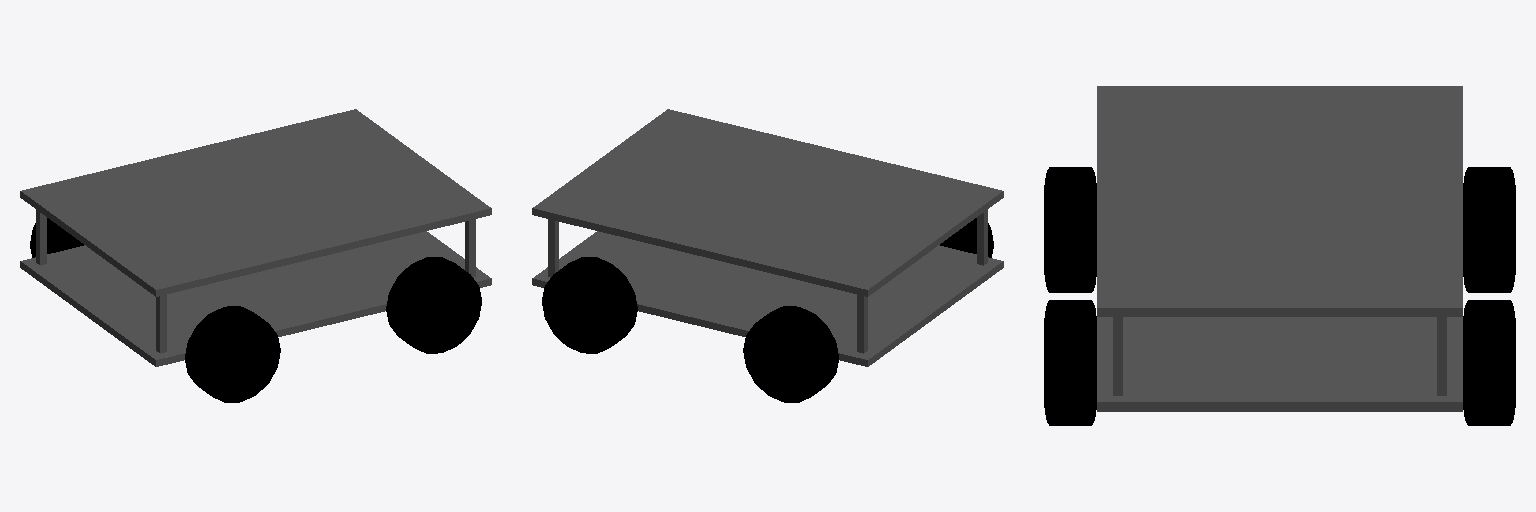
The robot description file, URDF, robot "raido-bot":
<?xml version="1.0" ?>
<!-- =================================================================================== -->
<!-- |    This document was autogenerated by xacro from src/raido-bot_description/urdf/raido-bot.urdf.xacro | -->
<!-- |    EDITING THIS FILE BY HAND IS NOT RECOMMENDED                                 | -->
<!-- =================================================================================== -->
<robot name="raido-bot">
  <material name="grey">
    <color rgba="0.38 0.38 0.38 1.0"/>
  </material>
  <material name="black">
    <color rgba="0 0 0 1.0"/>
  </material>
  <link name="base_link">
    <inertial>
      <origin rpy="0.0 0.0 0.0" xyz="0.0 0.0 0.0"/>
      <mass value="5.0"/>
      <inertia ixx="0.043125" ixy="0.0" ixz="0.0" iyy="0.0890625" iyz="0.0" izz="0.1040625"/>
    </inertial>
    <collision name="base_link_col">
      <origin rpy="0.0 0.0 0.0" xyz="0.0 0.0 0.0"/>
      <geometry>
        <box size="0.5 0.35 0.11"/>
      </geometry>
    </collision>
    <visual name="base_link_vis">
      <origin rpy="0.0 0.0 0.0" xyz="0.0 0.0 0.0"/>
      <geometry>
        <mesh filename="package://raido-bot_description/meshes/base_link.stl" scale="1 1 1"/>
      </geometry>
      <material name="grey"/>
    </visual>
  </link>
  <link name="wheel_link_fr">
    <inertial>
      <origin rpy="0.0 0.0 0.0" xyz="0.0 0.0 0.0"/>
      <mass value="1.0"/>
      <inertia ixx="0.0025" ixy="0.0" ixz="0.0" iyy="0.0025" iyz="0.0" izz="0.001"/>
    </inertial>
    <collision name="wheel_link_fr_col">
      <origin rpy="0.0 0.0 0.0" xyz="0.0 0.0 0.0"/>
      <geometry>
        <cylinder length="0.05" radius="0.06"/>
      </geometry>
    </collision>
    <visual name="wheel_link_fr_vis">
      <origin rpy="0.0 0.0 0.0" xyz="0.0 0.0 0.0"/>
      <geometry>
        <mesh filename="package://raido-bot_description/meshes/wheel_link.stl" scale="1 1 1"/>
      </geometry>
      <material name="black"/>
    </visual>
  </link>
  <joint name="wheel_link_fr_joint" type="continuous">
    <origin rpy="0.0 0.0 0.0" xyz="0.15 0.19999999999999998 0.0"/>
    <parent link="base_link"/>
    <child link="wheel_link_fr"/>
    <axis xyz="0 1 0"/>
    <limit effort="1.0" lower="0.0" upper="0.0" velocity="1.0"/>
  </joint>
  <link name="wheel_link_br">
    <inertial>
      <origin rpy="0.0 0.0 0.0" xyz="0.0 0.0 0.0"/>
      <mass value="1.0"/>
      <inertia ixx="0.0025" ixy="0.0" ixz="0.0" iyy="0.0025" iyz="0.0" izz="0.001"/>
    </inertial>
    <collision name="wheel_link_br_col">
      <origin rpy="0.0 0.0 0.0" xyz="0.0 0.0 0.0"/>
      <geometry>
        <cylinder length="0.05" radius="0.06"/>
      </geometry>
    </collision>
    <visual name="wheel_link_br_vis">
      <origin rpy="0.0 0.0 0.0" xyz="0.0 0.0 0.0"/>
      <geometry>
        <mesh filename="package://raido-bot_description/meshes/wheel_link.stl" scale="1 1 1"/>
      </geometry>
      <material name="black"/>
    </visual>
  </link>
  <joint name="wheel_link_br_joint" type="continuous">
    <origin rpy="0.0 0.0 0.0" xyz="-0.15 0.19999999999999998 0.0"/>
    <parent link="base_link"/>
    <child link="wheel_link_br"/>
    <axis xyz="0 1 0"/>
    <limit effort="1.0" lower="0.0" upper="0.0" velocity="1.0"/>
  </joint>
  <link name="wheel_link_fl">
    <inertial>
      <origin rpy="0.0 0.0 0.0" xyz="0.0 0.0 0.0"/>
      <mass value="1.0"/>
      <inertia ixx="0.0025" ixy="0.0" ixz="0.0" iyy="0.0025" iyz="0.0" izz="0.001"/>
    </inertial>
    <collision name="wheel_link_fl_col">
      <origin rpy="0.0 0.0 0.0" xyz="0.0 0.0 0.0"/>
      <geometry>
        <cylinder length="0.05" radius="0.06"/>
      </geometry>
    </collision>
    <visual name="wheel_link_fl_vis">
      <origin rpy="0.0 0.0 0.0" xyz="0.0 0.0 0.0"/>
      <geometry>
        <mesh filename="package://raido-bot_description/meshes/wheel_link.stl" scale="1 1 1"/>
      </geometry>
      <material name="black"/>
    </visual>
  </link>
  <joint name="wheel_link_fl_joint" type="continuous">
    <origin rpy="0.0 0.0 0.0" xyz="0.15 -0.19999999999999998 0.0"/>
    <parent link="base_link"/>
    <child link="wheel_link_fl"/>
    <axis xyz="0 1 0"/>
    <limit effort="1.0" lower="0.0" upper="0.0" velocity="1.0"/>
  </joint>
  <link name="wheel_link_bl">
    <inertial>
      <origin rpy="0.0 0.0 0.0" xyz="0.0 0.0 0.0"/>
      <mass value="1.0"/>
      <inertia ixx="0.0025" ixy="0.0" ixz="0.0" iyy="0.0025" iyz="0.0" izz="0.001"/>
    </inertial>
    <collision name="wheel_link_bl_col">
      <origin rpy="0.0 0.0 0.0" xyz="0.0 0.0 0.0"/>
      <geometry>
        <cylinder length="0.05" radius="0.06"/>
      </geometry>
    </collision>
    <visual name="wheel_link_bl_vis">
      <origin rpy="0.0 0.0 0.0" xyz="0.0 0.0 0.0"/>
      <geometry>
        <mesh filename="package://raido-bot_description/meshes/wheel_link.stl" scale="1 1 1"/>
      </geometry>
      <material name="black"/>
    </visual>
  </link>
  <joint name="wheel_link_bl_joint" type="continuous">
    <origin rpy="0.0 0.0 0.0" xyz="-0.15 -0.19999999999999998 0.0"/>
    <parent link="base_link"/>
    <child link="wheel_link_bl"/>
    <axis xyz="0 1 0"/>
    <limit effort="1.0" lower="0.0" upper="0.0" velocity="1.0"/>
  </joint>
  <gazebo>
    <plugin filename="ignition-gazebo-diff-drive-system" name="gz::sim::systems::DiffDrive">
      <left_joint>wheel_link_fl_joint</left_joint>
      <right_joint>wheel_link_fr_joint</right_joint>
      <wheel_separation>0.35</wheel_separation>
      <wheel_radius>0.06</wheel_radius>
      <odom_publish_frequency>0.1</odom_publish_frequency>
      <max_linear_acceleration>1</max_linear_acceleration>
      <min_linear_acceleration>-1</min_linear_acceleration>
      <max_angular_acceleration>2</max_angular_acceleration>
      <min_angular_acceleration>-2</min_angular_acceleration>
      <max_linear_velocity>0.5</max_linear_velocity>
      <min_linear_velocity>-0.5</min_linear_velocity>
      <max_angular_velocity>1</max_angular_velocity>
      <min_angular_velocity>-1</min_angular_velocity>
    </plugin>
  </gazebo>
</robot>

--- Facts derived from the render (not from the file) ---
The picture shows the robot from 3 angles, left to right: view 1: azimuth 30°, elevation 25°; view 2: azimuth 150°, elevation 25°; view 3: azimuth 270°, elevation 25°; orthographic projection.
Model raido-bot with 5 links and 4 joints (4 continuous), rooted at base_link, posed all joints at 0.
Visible links, largest first — view 1: base_link, wheel_link_fl, wheel_link_bl, wheel_link_br; view 2: base_link, wheel_link_fr, wheel_link_br, wheel_link_bl; view 3: base_link, wheel_link_br, wheel_link_bl, wheel_link_fr, wheel_link_fl.
Link boxes in pixels (x1,y1,x2,y2): base_link: (20,109,491,366); wheel_link_fl: (386,257,481,353); wheel_link_bl: (185,306,280,402); wheel_link_br: (30,218,83,257); base_link: (532,109,1003,366); wheel_link_fr: (542,257,637,353); wheel_link_br: (743,306,838,402); wheel_link_bl: (940,218,993,257); base_link: (1097,86,1462,411); wheel_link_br: (1463,167,1515,292); wheel_link_bl: (1044,167,1096,292); wheel_link_fr: (1463,300,1515,425); wheel_link_fl: (1044,300,1096,425).
Size in the robot's own frame: 0.5 by 0.45 by 0.165 metres.
Meshes: 2 distinct files referenced, 5 mesh visuals loaded (2 binary STL).
